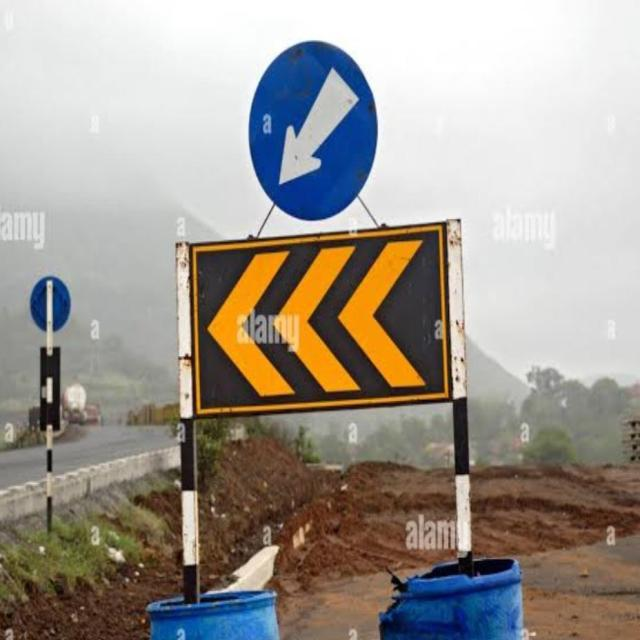compulsory_keep_left: (242, 44, 388, 216)
triple_chevron: (185, 226, 470, 409)
